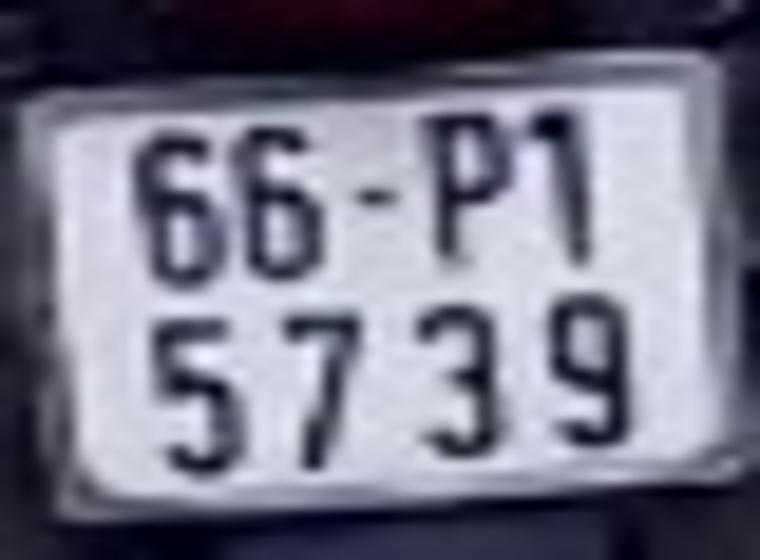-: (354, 178, 405, 216)
1: (530, 96, 609, 279)
3: (407, 298, 510, 471)
5: (140, 305, 254, 488)
6: (127, 120, 232, 291), (227, 114, 328, 286)
7: (274, 305, 375, 477)
9: (537, 289, 632, 458)
P: (423, 105, 516, 261)
